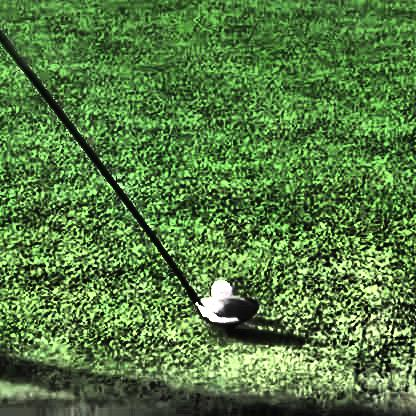golfball: (207, 276, 229, 299)
